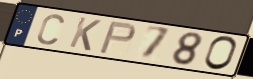7: (142, 23, 171, 61)
8: (170, 31, 204, 67)
C: (35, 12, 66, 46)
K: (67, 15, 104, 53)
O: (202, 35, 239, 73)
P: (96, 20, 138, 56)
